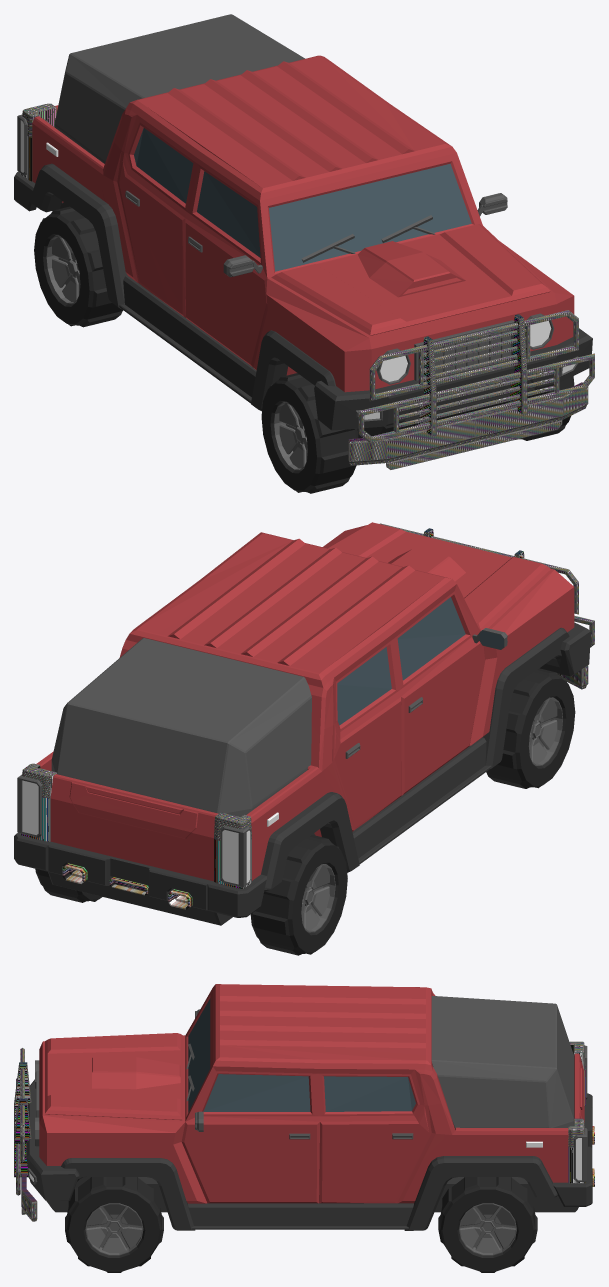
The picture shows the model from 3 angles, top to bottom: view 1: azimuth 30°, elevation 25°; view 2: azimuth 150°, elevation 25°; view 3: azimuth 270°, elevation 25°; orthographic projection. The views are drawn at different scales.
Parts seen in each view (by area): view 1: Object552; view 2: Object552; view 3: Object552.
Part boxes in pixels (x1,y1,x2,y2): Object552: (14, 14, 594, 493); Object552: (14, 522, 594, 955); Object552: (14, 984, 594, 1272).
Bounding box in the file's own units: 2.38 × 2.03 × 5.21.
1 material, 1 textured.
